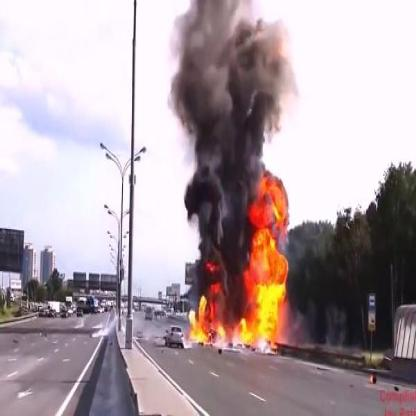fire: (186, 166, 294, 350)
